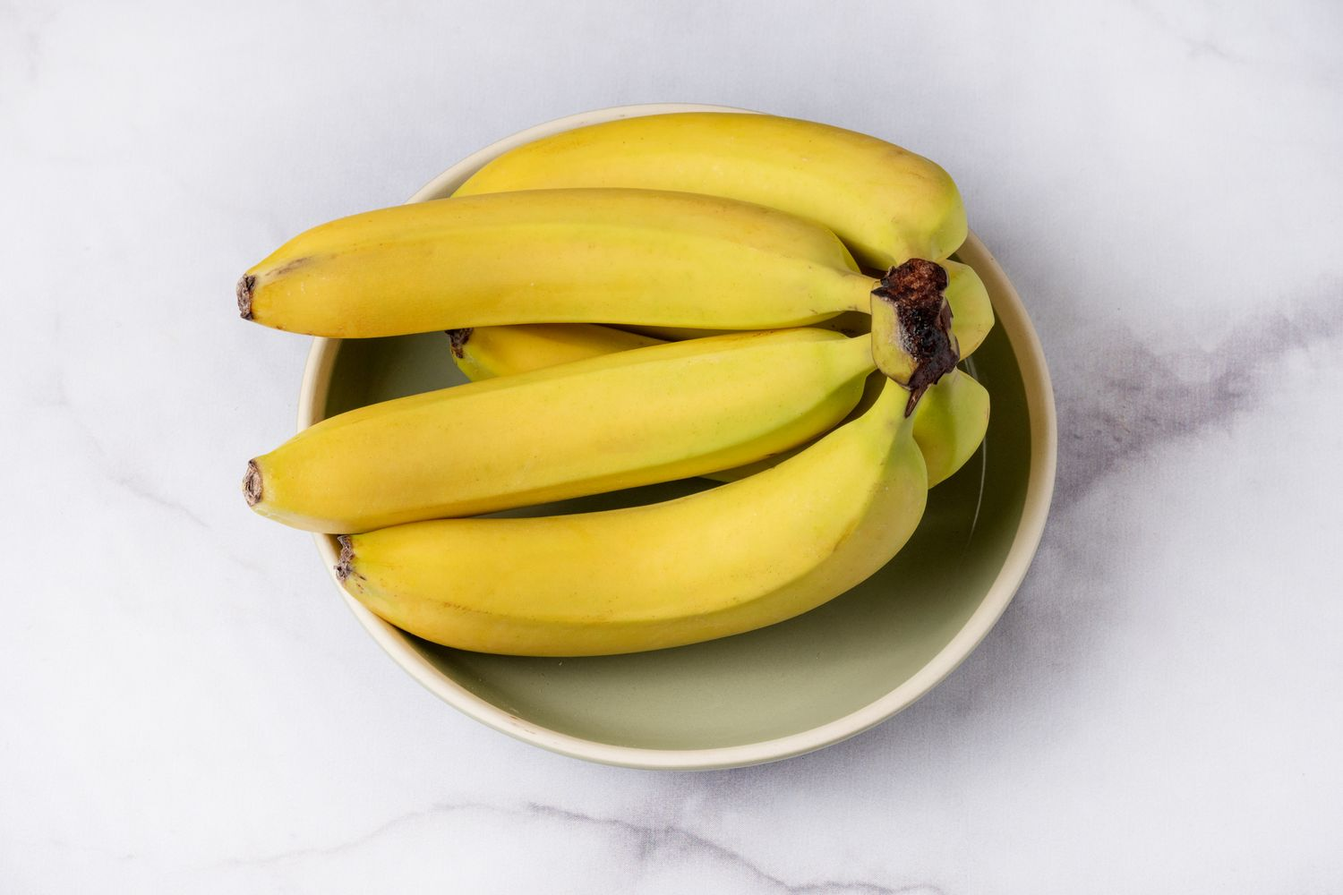banana: (226, 108, 1030, 677)
